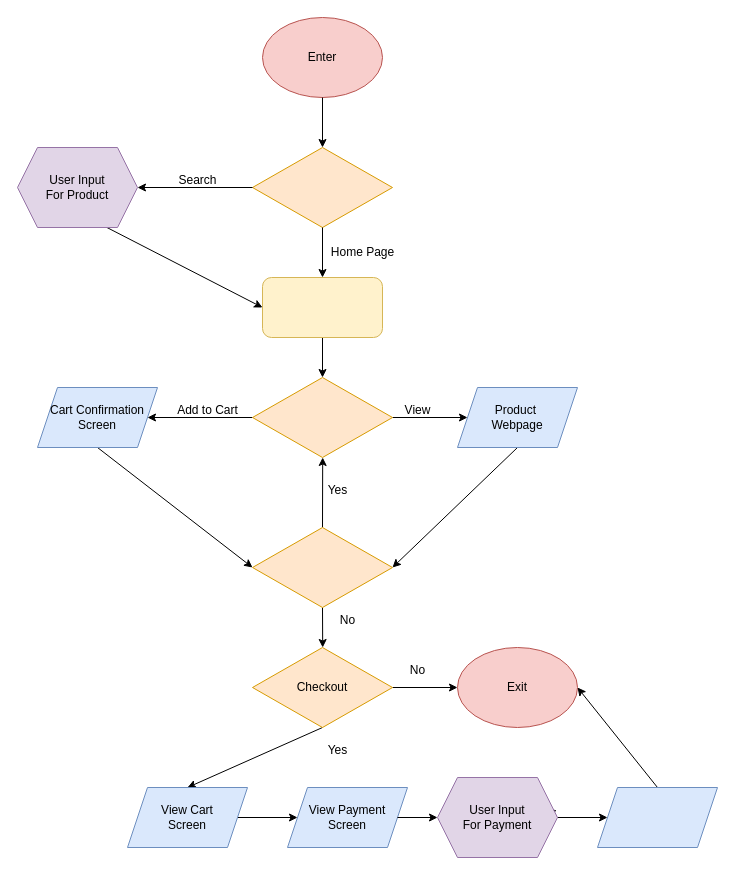
Some shapes in this 735 by 875 pixel diagram are drawn without their labels. The shapes that lost their labels are listed below. From the top down, each one's centre as x and y in pixels, then its label:
point (322, 187): View Products
point (322, 307): Looking at Products
point (322, 417): Clicking Specific Product
point (322, 567): Continue Shopping
point (657, 817): Payment Confirmation
